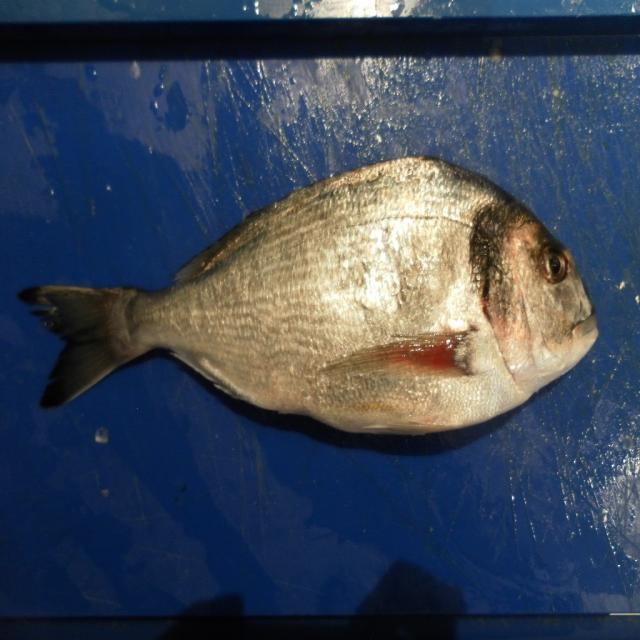Gilt-Head-Bream-c-ipura-: (20, 157, 599, 438)
